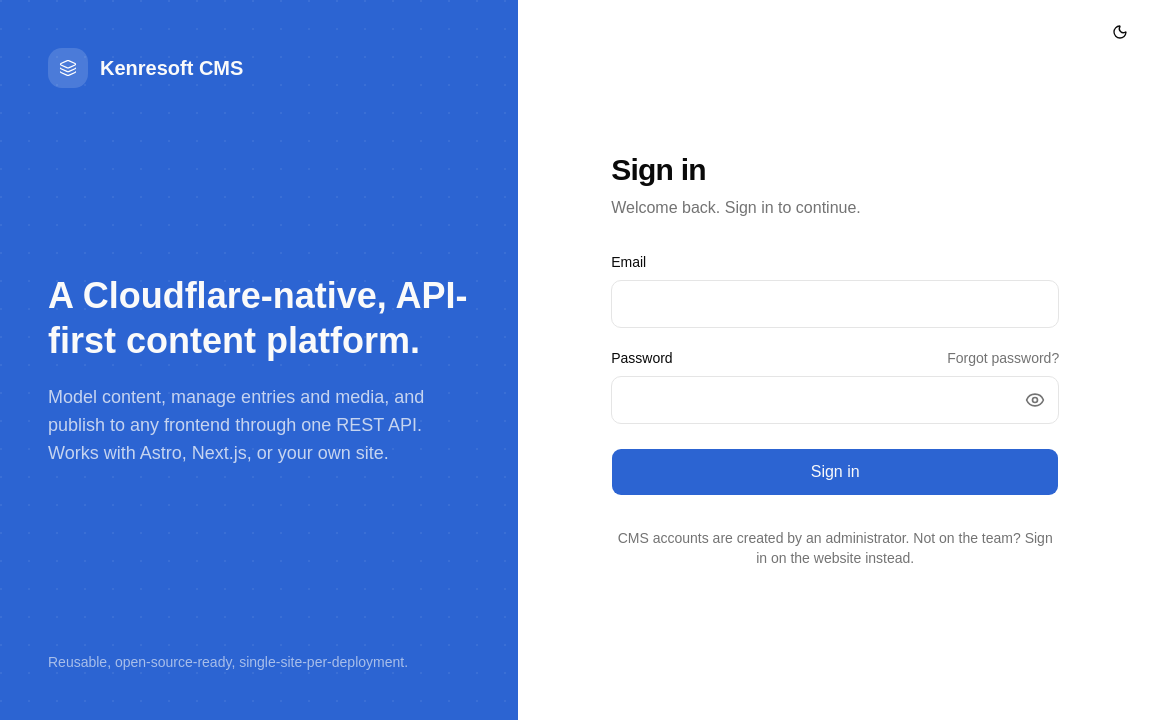
Test: LoginPage › shows a real error instead of hanging forever when the request throws
The image size is (1152, 720).
Step 1. Type "user@example.test" into the field labelled "Email" → (835, 304), box [611,280,1059,328]
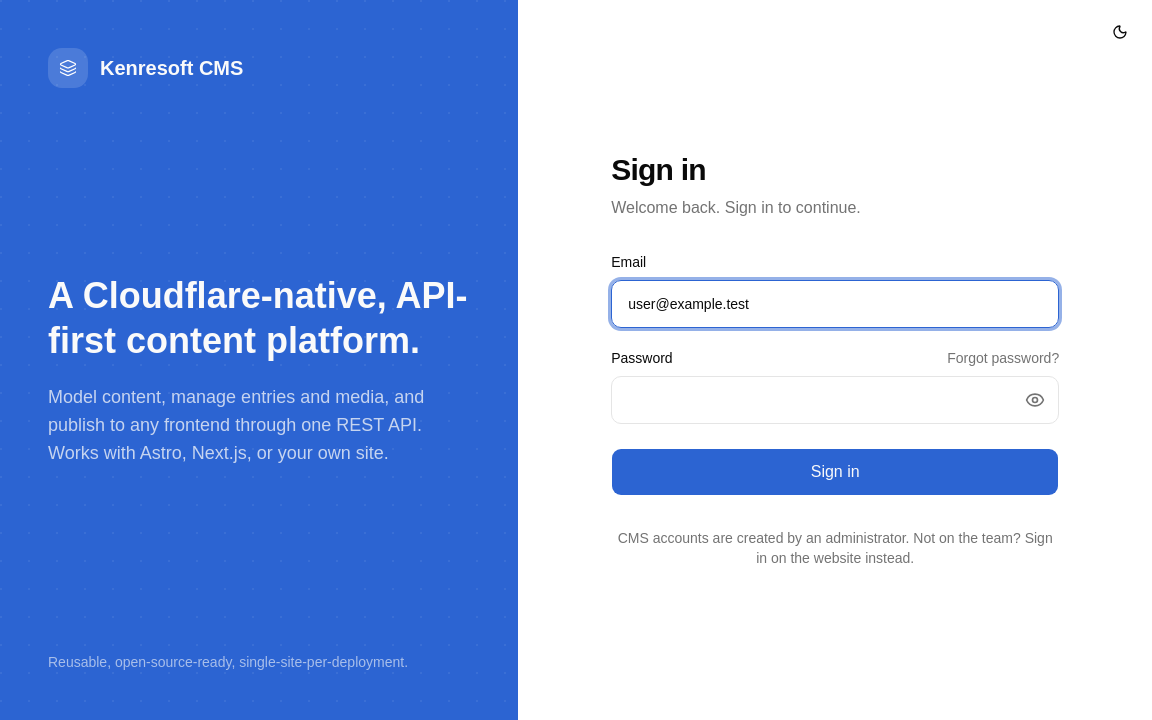
Step 2. Type "whatever" into the password field labelled "Password" → (835, 400), box [611,376,1059,424]
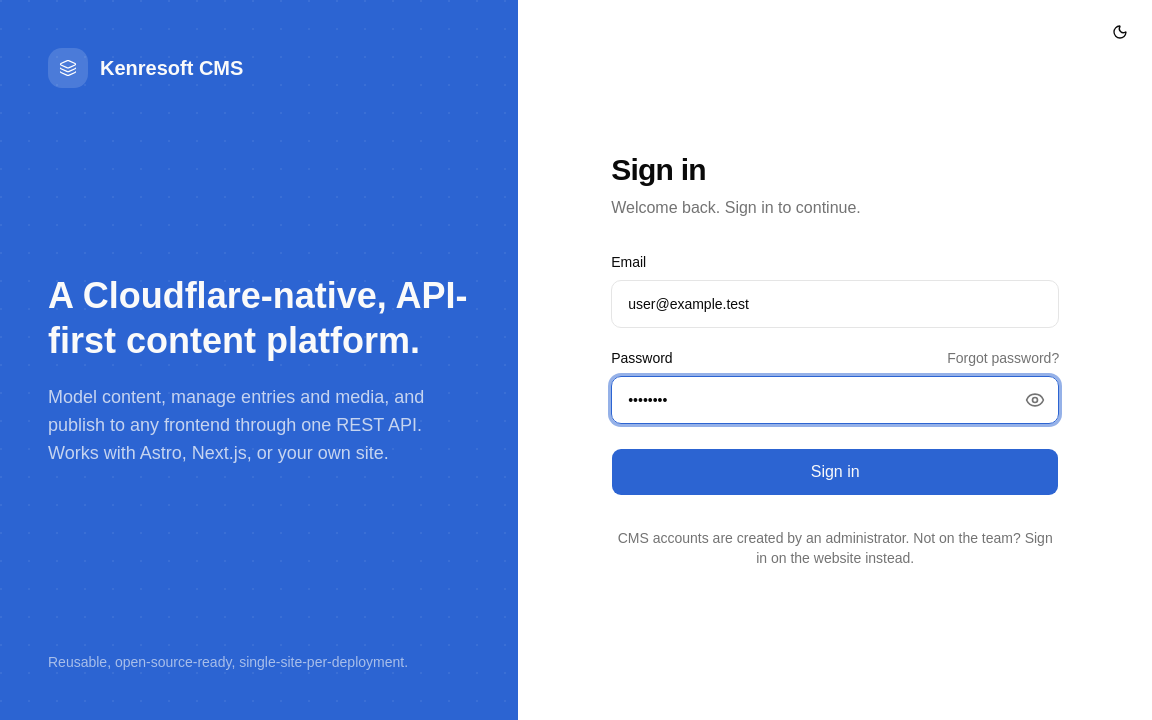
Step 3. Click the button "Sign in" → (835, 472), box [611,448,1059,496]
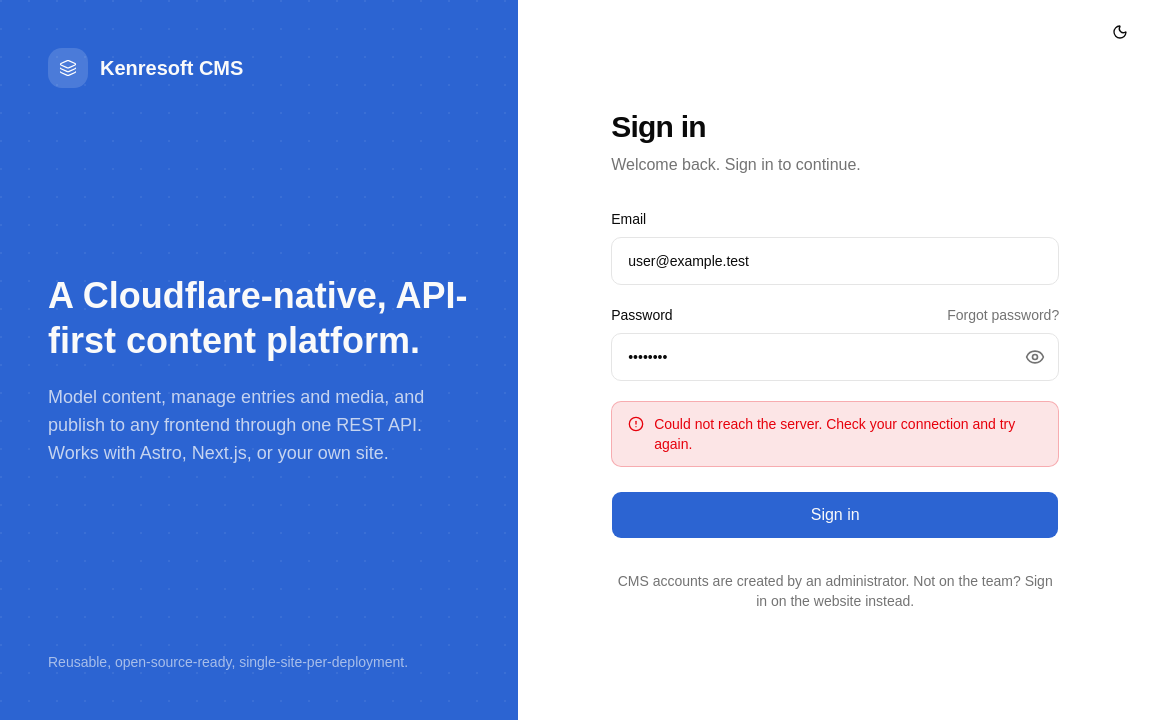
Check: the button "Sign in" is enabled, box [611,491,1059,539]
Check: the text "Could not reach the server. Check your connection and try again." is shown, box [654,414,1042,454]
